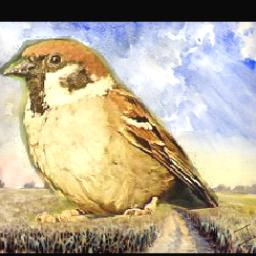Sparrow: (0, 37, 219, 232)
